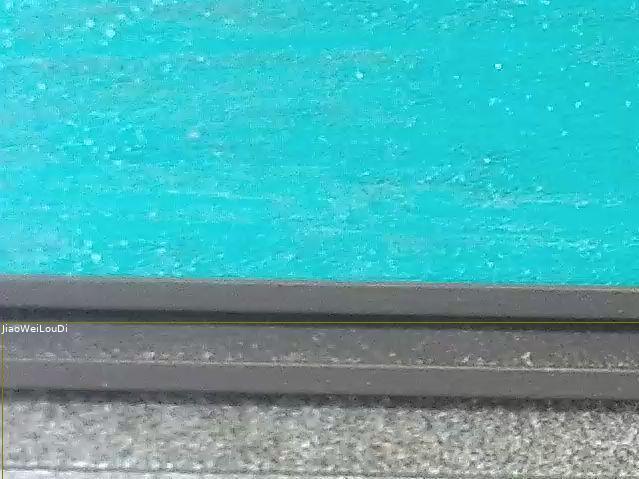JiaoWeiLouDi: (2, 322, 639, 479)
